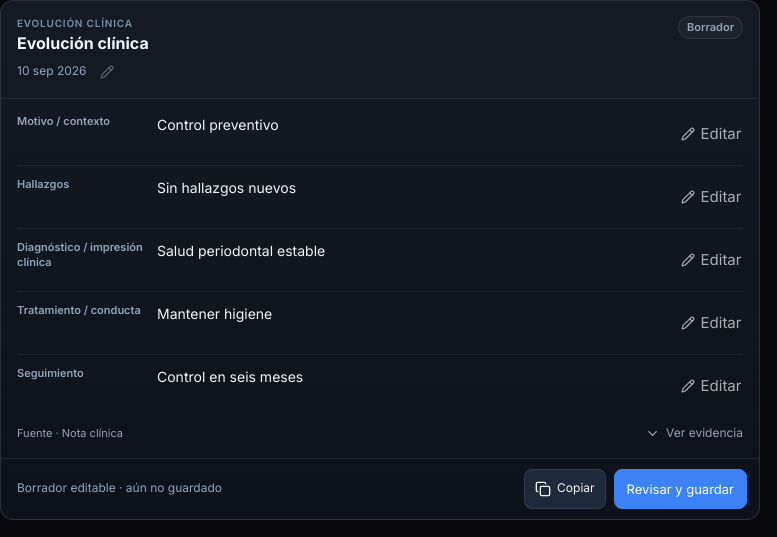
Test: ClinicalEvolutionArtifact › copies the composed evolution and confirms success only after the clipboard resolves
The width and height of the screenshot is (777, 537).
What coordinates should you click on to do the following:
click the button "Copiar"
I would click on:
 (565, 489)
Its box is [524, 469, 606, 509].
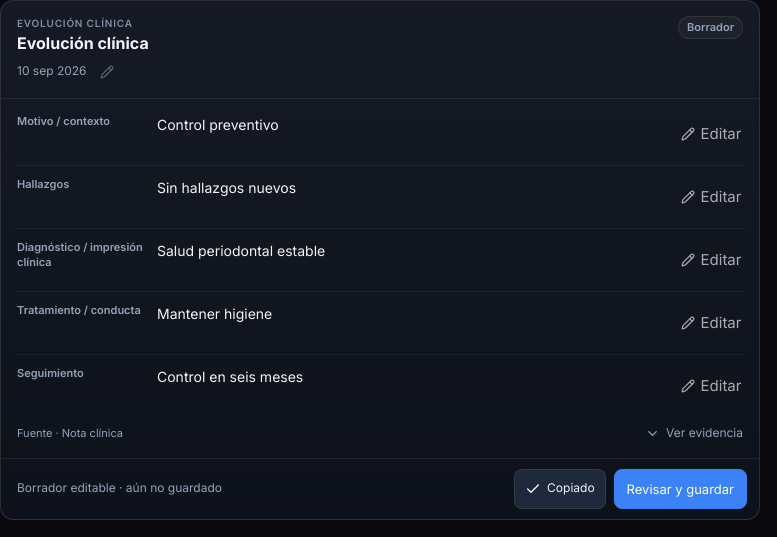
expect the button "Copiado" is shown: met, box [514, 469, 606, 509]
